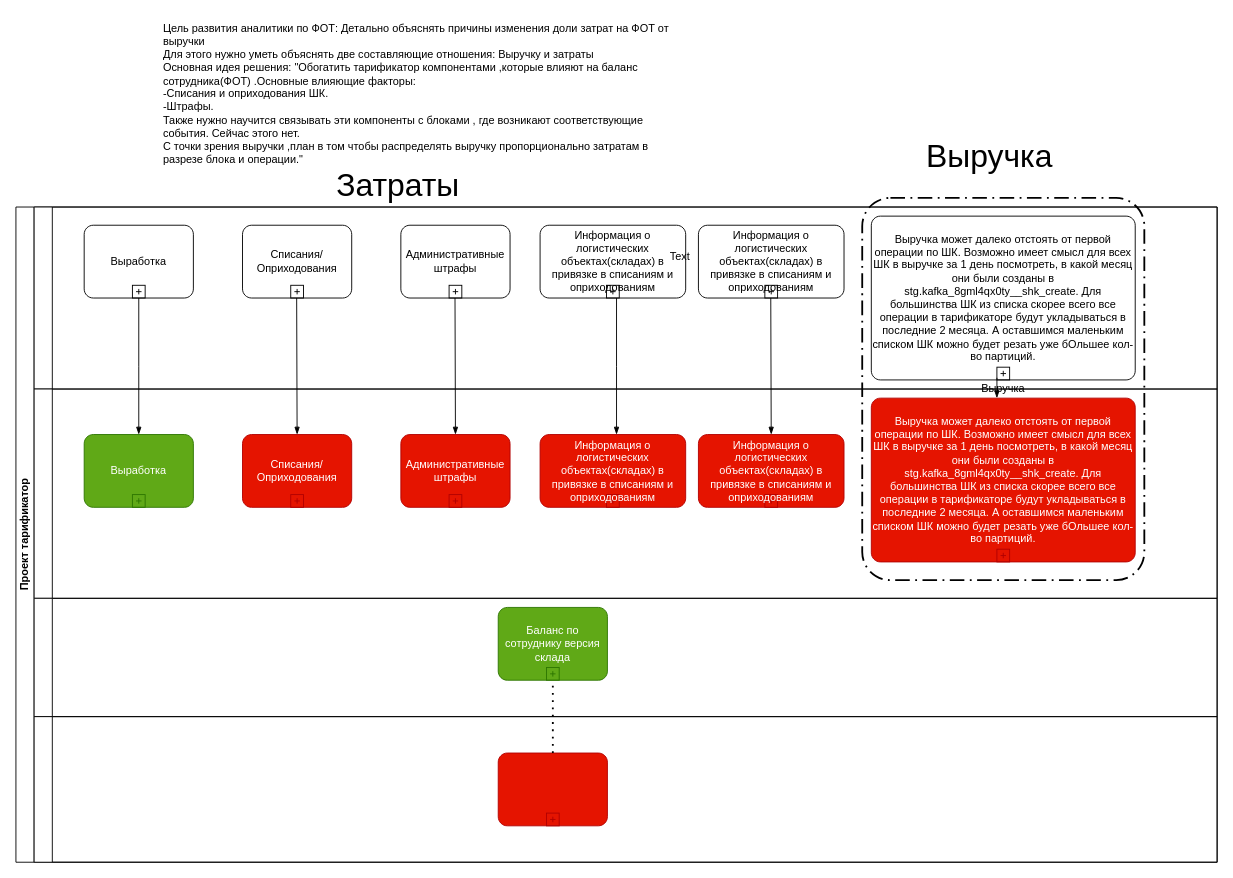
Some shapes in this 1233 by 878 pixel diagram are drawn without their labels. Each missing label, with the box of its shape:
Баланс по сотруднику версия фин депа: (497, 752, 607, 826)
Баланс склада: (33, 597, 1217, 717)
Баланс Фин депа: (33, 716, 1217, 862)
Складской тарификатор: (33, 206, 1217, 389)
Тарификатор фин депа: (33, 388, 1217, 598)
